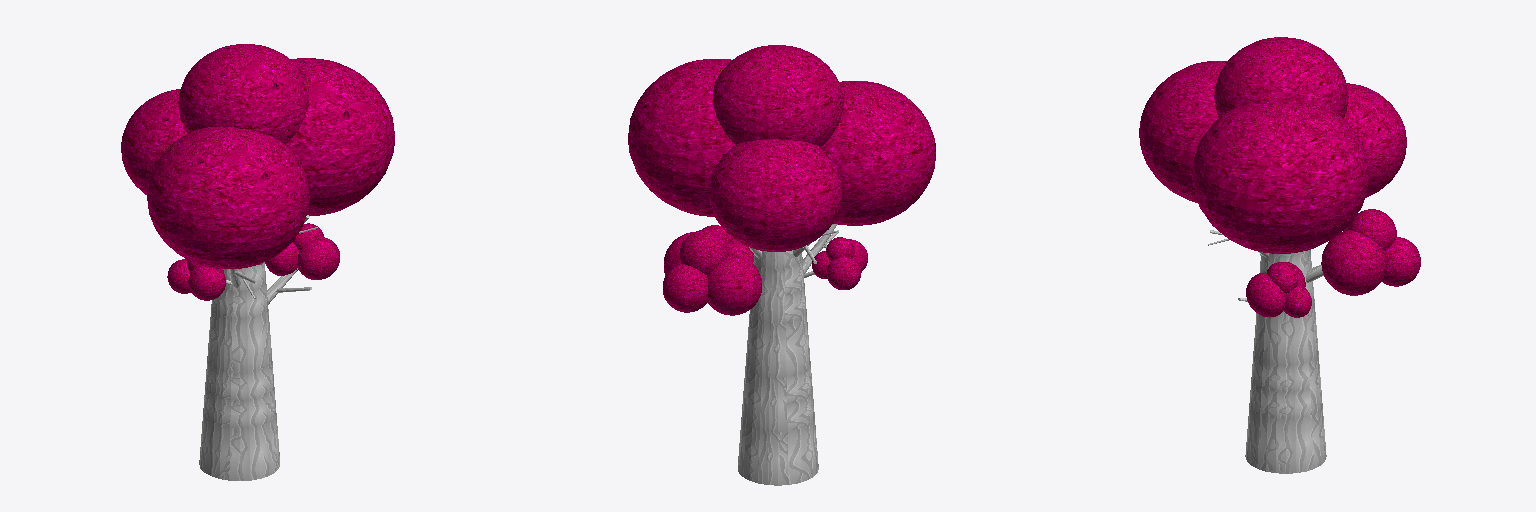
3 renders of one model, left to right at view 1: azimuth 30°, elevation 25°; view 2: azimuth 150°, elevation 25°; view 3: azimuth 270°, elevation 25°, orthographic.
Visible parts, largest first — view 1: arbol03_022, arbol03_001, arbol03_024, arbol03_023; view 2: arbol03_022, arbol03_001, arbol03_021, arbol03_023, arbol03_024; view 3: arbol03_022, arbol03_001, arbol03_021, arbol03_024.
Part boxes in pixels (x1,y1,x2,y2): arbol03_022: (121,44,394,268); arbol03_001: (199,262,279,480); arbol03_024: (265,223,339,279); arbol03_023: (167,259,225,300); arbol03_022: (628,45,935,251); arbol03_001: (738,250,818,485); arbol03_021: (663,230,761,315); arbol03_023: (812,237,867,289); arbol03_024: (702,225,753,262); arbol03_022: (1139,37,1406,253); arbol03_001: (1245,250,1326,473); arbol03_021: (1321,209,1420,295); arbol03_024: (1246,262,1311,317).
Size of the model in its own units: 153 by 237 by 146.
Materials: 2 (2 with a texture image).